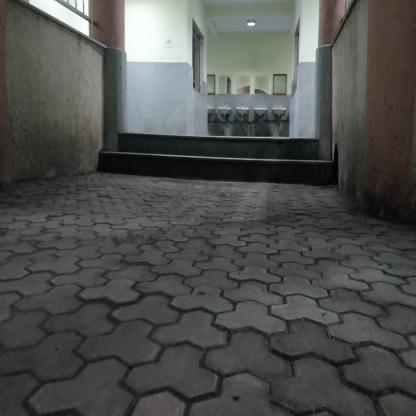stairs: (121, 132, 312, 184)
